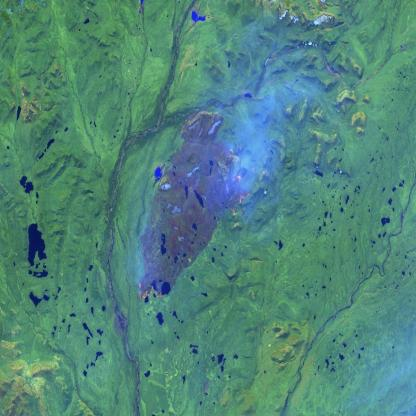fire: (225, 145, 250, 218), (136, 275, 163, 307)
